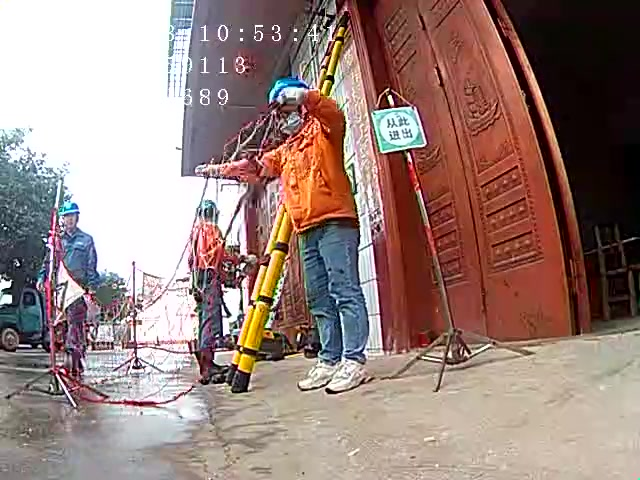downcloth: (296, 229, 370, 361), (195, 279, 226, 342)
halt: (268, 81, 308, 131), (58, 204, 81, 230), (194, 200, 222, 221)
intosign: (370, 105, 426, 152)
person: (232, 77, 376, 392), (38, 202, 109, 369), (185, 198, 238, 367)
shoe: (195, 346, 228, 377)
upsuit: (56, 227, 104, 291)
wglove: (279, 86, 306, 106)
yupsuit: (221, 87, 357, 223), (188, 218, 232, 267)
